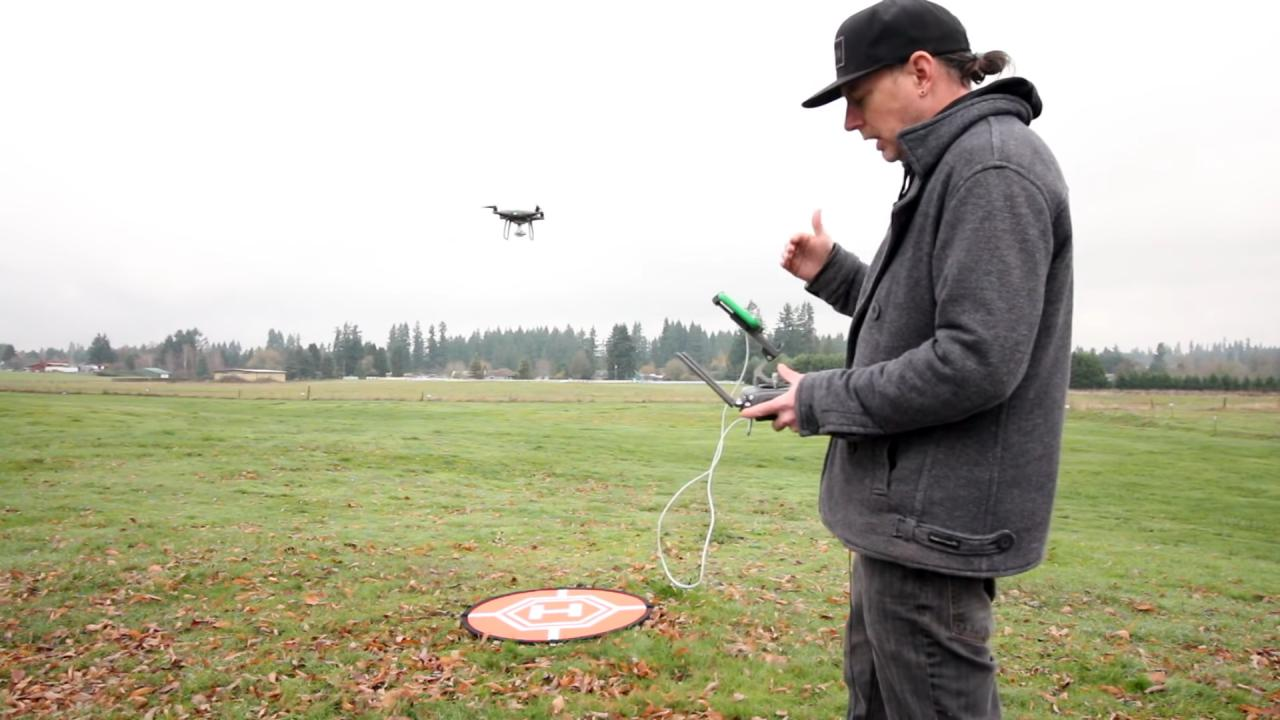Drone: (479, 196, 559, 250)
